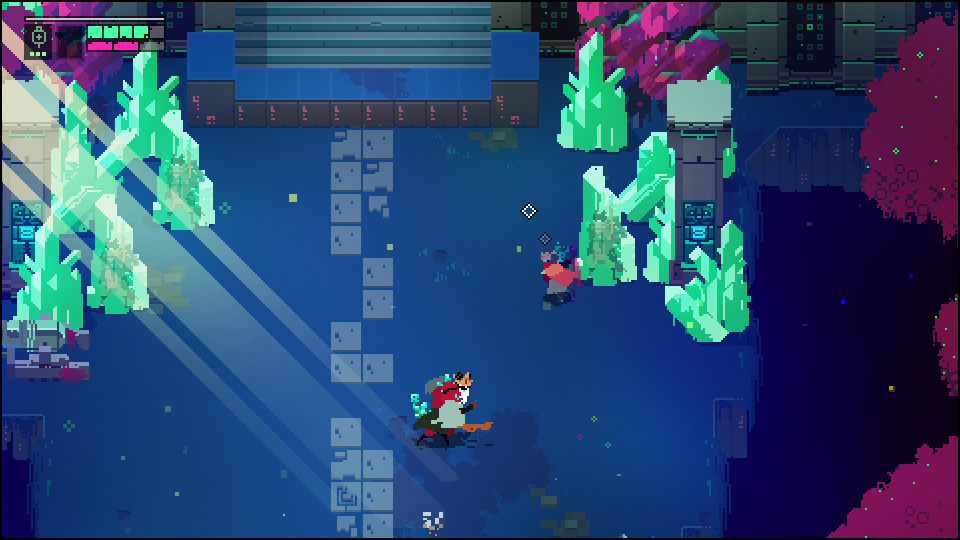hanged_man: (405, 371, 492, 434)
player: (537, 252, 578, 302)
